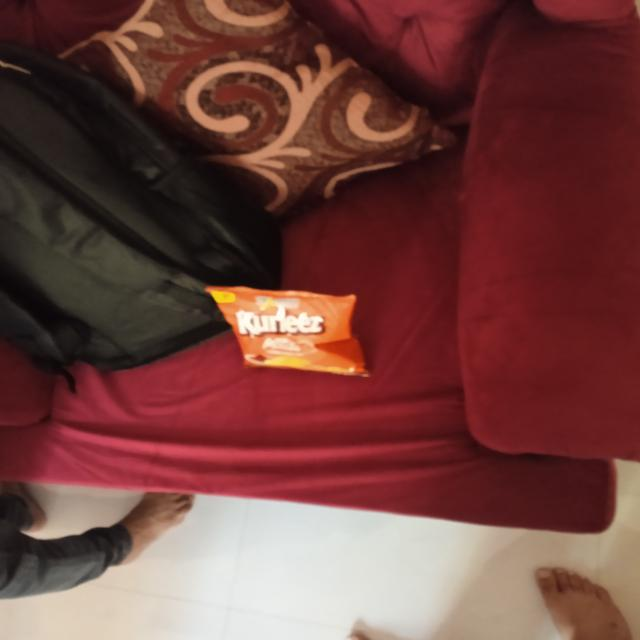Plastic: (202, 276, 376, 384)
